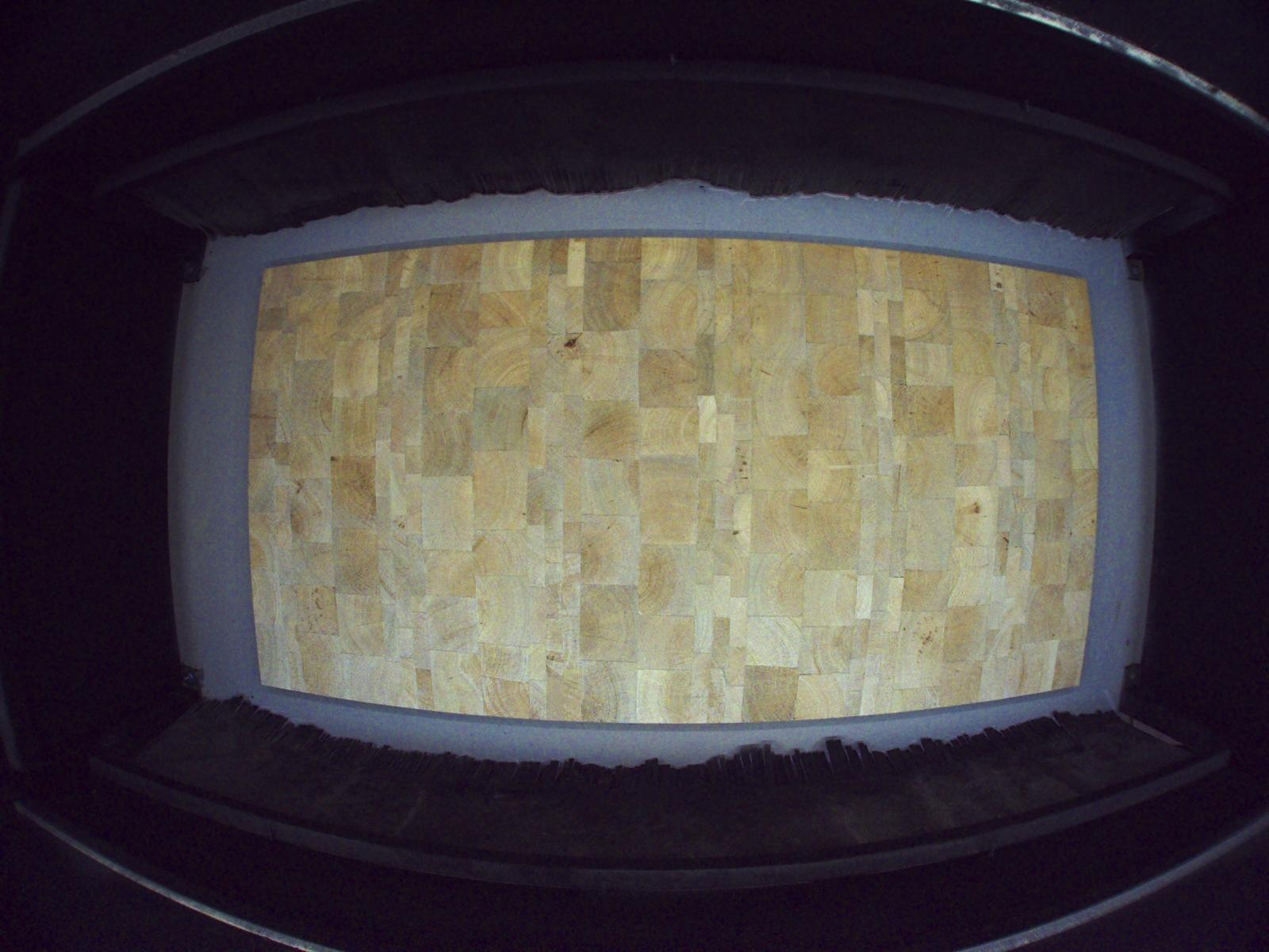nudillo: (563, 332, 584, 350)
